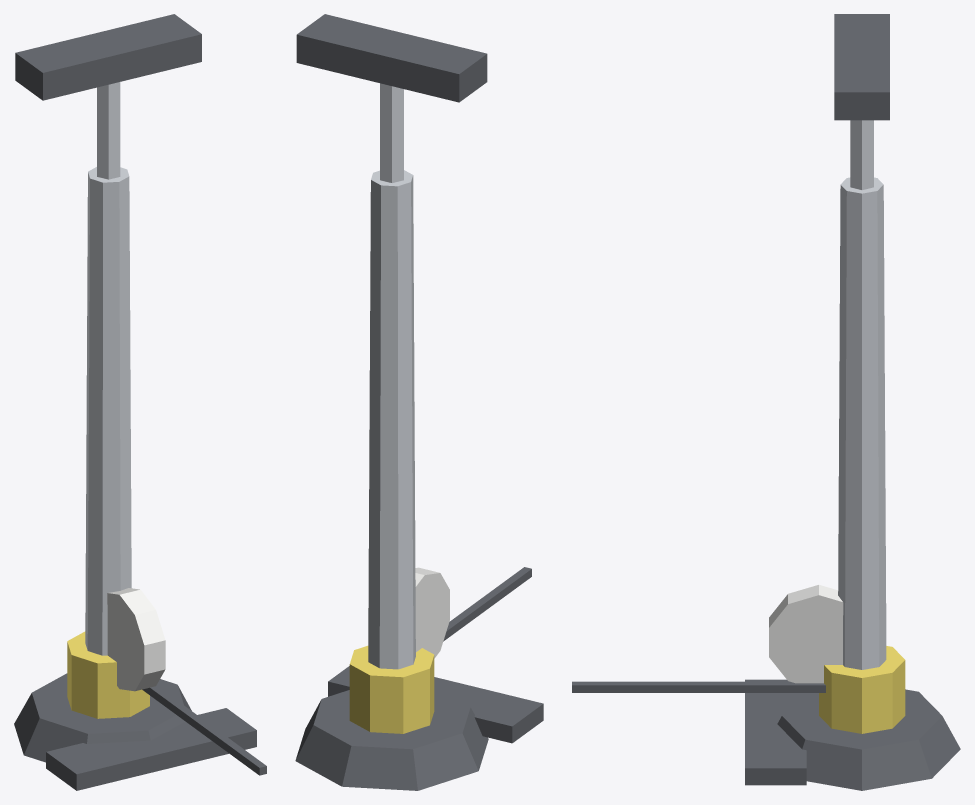
File: velodrome-and-track-cycling-track-pump-607957a5__38023.glb
3 renders of one model, left to right at view 1: azimuth 30°, elevation 25°; view 2: azimuth 150°, elevation 25°; view 3: azimuth 270°, elevation 25°, orthographic. The views are drawn at different scales.
Visible parts, largest first — view 1: track-pump-steel, track-pump-charcoal, pump-handle/charcoal, track-pump-chalk, track-pump-canary, pump-handle/steel; view 2: track-pump-steel, track-pump-charcoal, pump-handle/charcoal, track-pump-canary, track-pump-chalk, pump-handle/steel; view 3: track-pump-steel, track-pump-charcoal, track-pump-chalk, pump-handle/charcoal, track-pump-canary, pump-handle/steel.
Boxes of the visible parts, box(x1,y1,x2,y2) form: track-pump-steel: box(85, 167, 131, 655); track-pump-charcoal: box(14, 673, 266, 790); pump-handle/charcoal: box(15, 14, 201, 100); track-pump-chalk: box(107, 588, 165, 691); track-pump-canary: box(67, 631, 149, 718); pump-handle/steel: box(97, 82, 120, 179); track-pump-steel: box(368, 170, 415, 669); track-pump-charcoal: box(295, 567, 543, 790); pump-handle/charcoal: box(296, 14, 487, 102); track-pump-canary: box(349, 645, 434, 733); track-pump-chalk: box(415, 567, 449, 658); pump-handle/steel: box(380, 83, 403, 182); track-pump-steel: box(838, 177, 886, 669); track-pump-charcoal: box(572, 679, 960, 790); track-pump-chalk: box(769, 585, 843, 683); pump-handle/charcoal: box(834, 14, 889, 120); track-pump-canary: box(819, 646, 905, 733); pump-handle/steel: box(850, 120, 873, 189).
Size of the model in its own units: 0.34 by 1.24 by 0.63.
